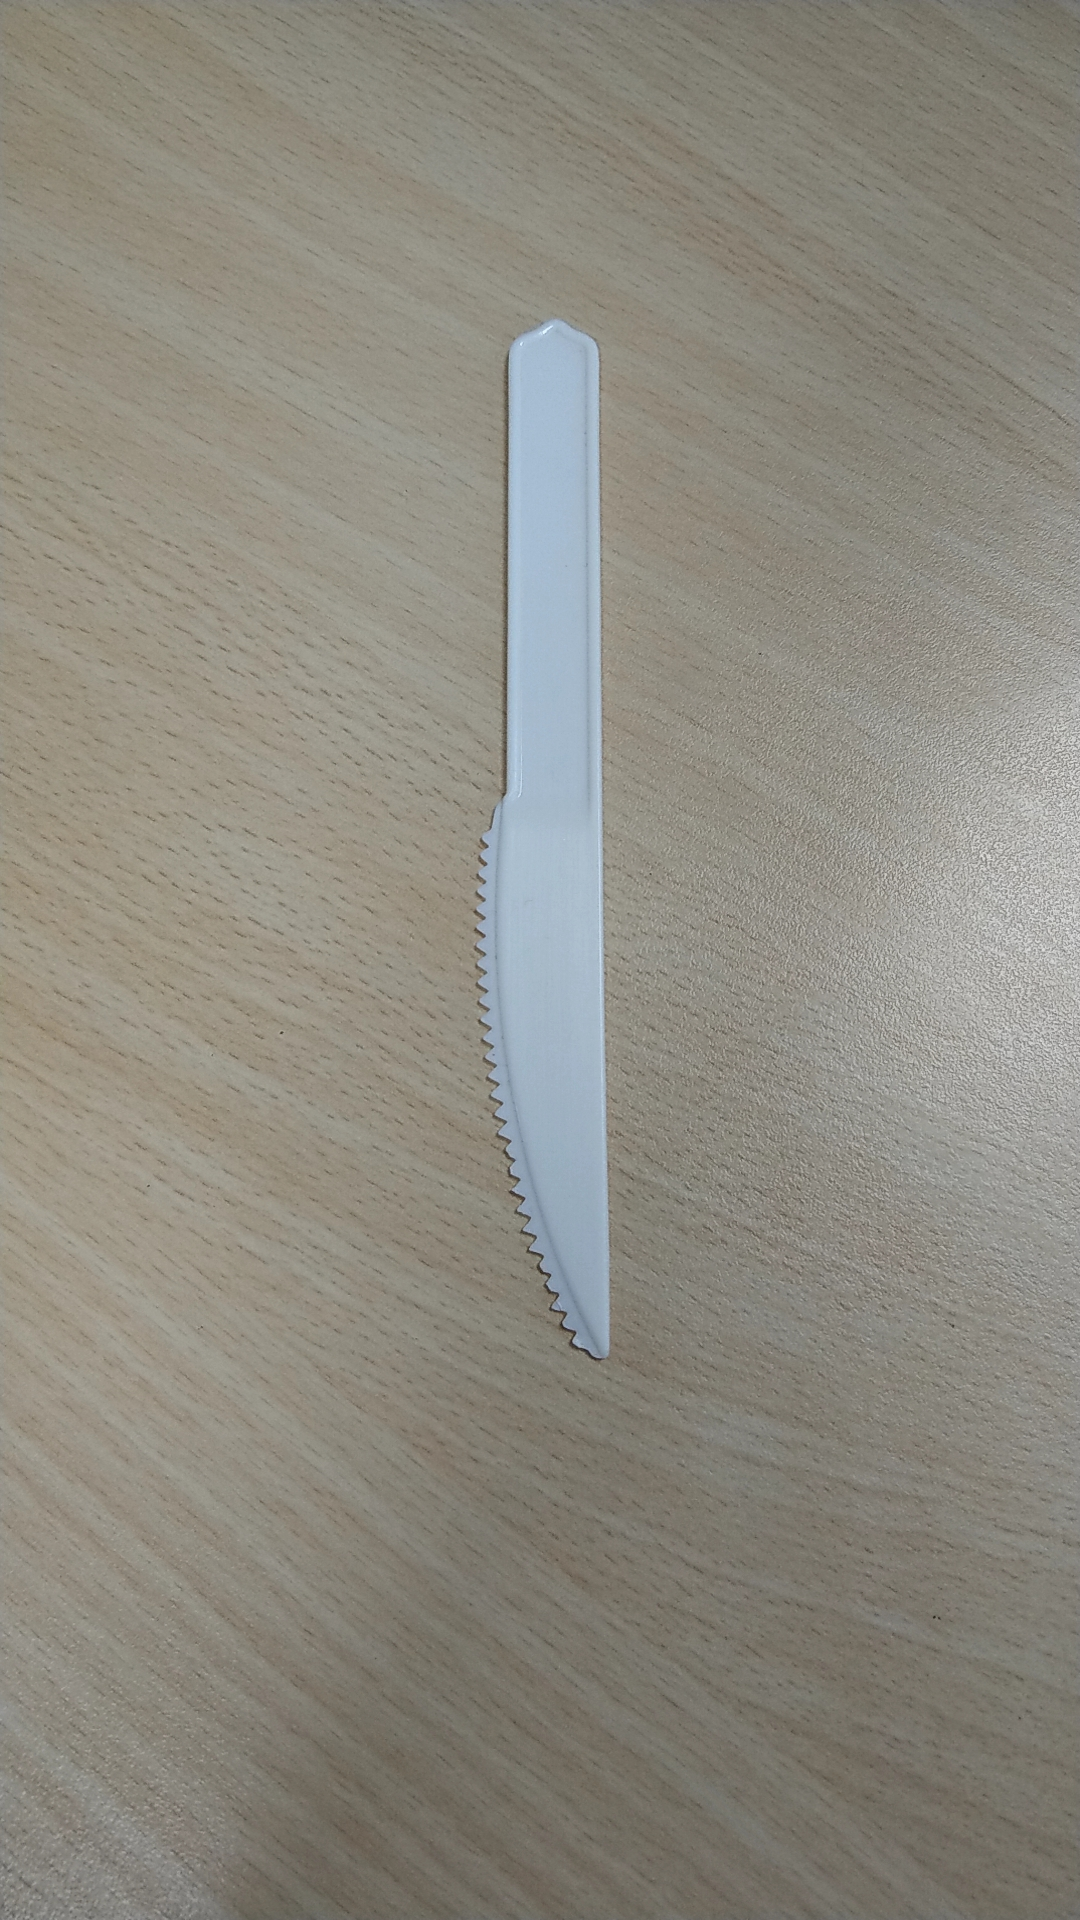knife: (452, 301, 655, 1386)
